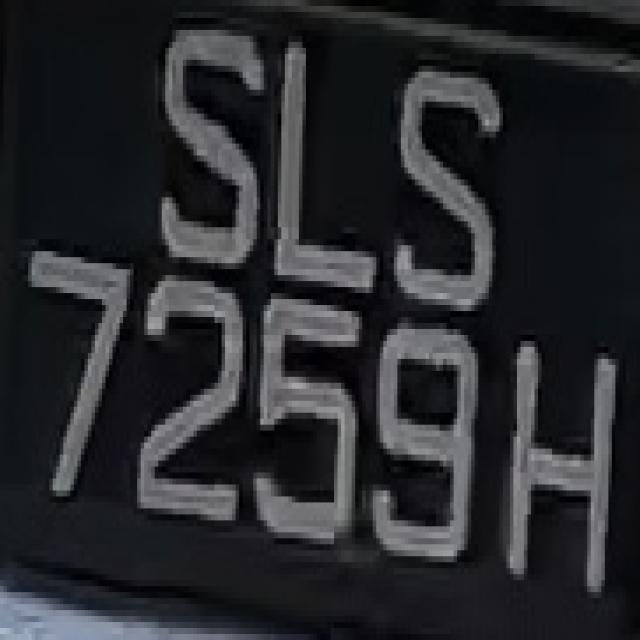2: (123, 246, 250, 538)
5: (250, 257, 372, 550)
7: (14, 233, 130, 502)
9: (380, 299, 489, 574)
H: (506, 311, 630, 622)
L: (267, 12, 380, 299)
S: (383, 42, 503, 323), (137, 36, 271, 275)
